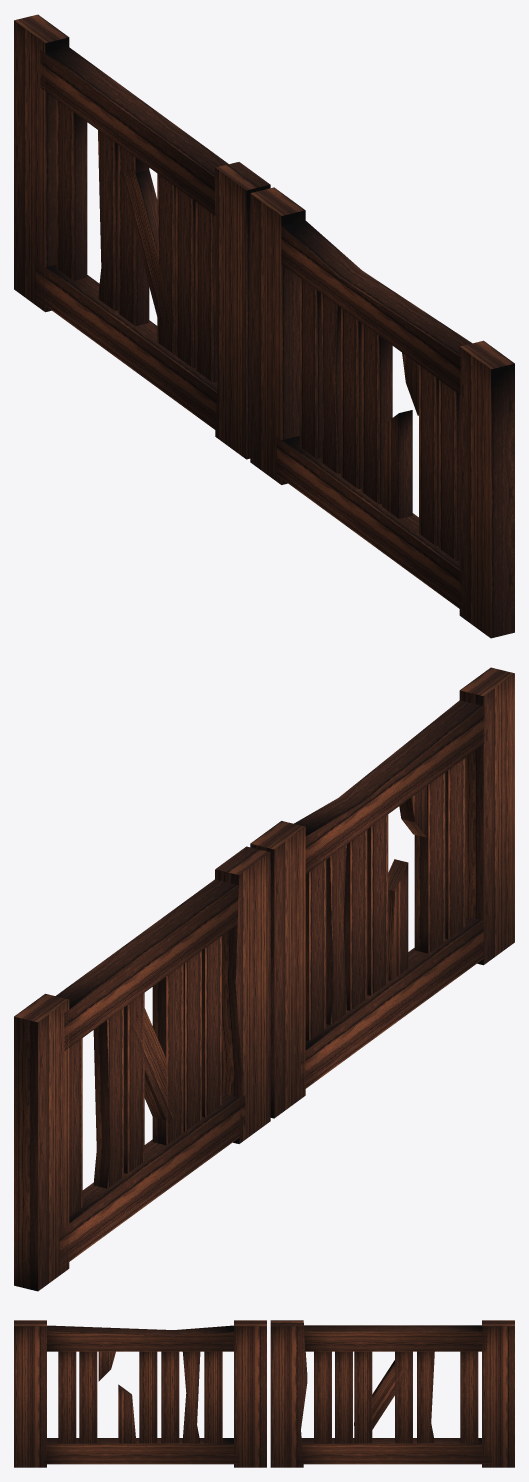
File: gate2.fbx
3 renders of one model, top to bottom at view 1: azimuth 30°, elevation 25°; view 2: azimuth 150°, elevation 25°; view 3: azimuth 270°, elevation 25°, orthographic. The views are drawn at different scales.
Parts seen in each view (by area): view 1: pCube1, pCube3, pCube2, pCube4, pCube7, pCube6, pCube8, pCube5, pCube16, pCube20, pCube17, pCube13 (+10 smaller); view 2: pCube2, pCube1, pCube4, pCube7, pCube3, pCube6, pCube8, pCube5, pCube14, pCube23, pCube11, pCube19 (+11 smaller); view 3: pCube4, pCube7, pCube1, pCube3, pCube2, pCube6, pCube5, pCube8, pCube17, pCube23, pCube24, pCube20 (+11 smaller).
Part boxes in pixels (x1,y1,x2,y2): pCube1: (459,340,514,638); pCube3: (250,187,305,484); pCube2: (14,14,69,312); pCube4: (211,162,270,459); pCube7: (40,47,228,215); pCube6: (281,220,472,394); pCube8: (35,261,217,429); pCube5: (276,436,462,610); pCube16: (56,100,87,280); pCube20: (361,323,392,504); pCube17: (300,278,324,458); pCube13: (118,145,149,326); pCube2: (14,993,69,1291); pCube1: (459,667,514,965); pCube4: (215,846,270,1143); pCube7: (55,879,240,1050); pCube3: (250,821,305,1118); pCube6: (294,700,484,874); pCube8: (59,1093,245,1268); pCube5: (300,916,485,1091); pCube14: (93,1008,123,1188); pCube23: (414,773,445,953); pCube11: (152,964,183,1145); pCube19: (343,830,367,1010); pCube4: (270,1320,307,1467); pCube7: (302,1325,487,1351); pCube1: (14,1320,46,1467); pCube3: (234,1320,266,1467); pCube2: (482,1320,514,1467); pCube6: (46,1325,234,1351); pCube5: (44,1438,238,1464); pCube8: (297,1438,491,1464); pCube17: (204,1351,222,1443); pCube23: (79,1351,97,1443); pCube24: (58,1351,76,1443); pCube20: (139,1351,157,1443).
Size of the model in its own units: 0.4441 by 4.75 by 15.25.
Materials: 1 (1 with a texture image).
